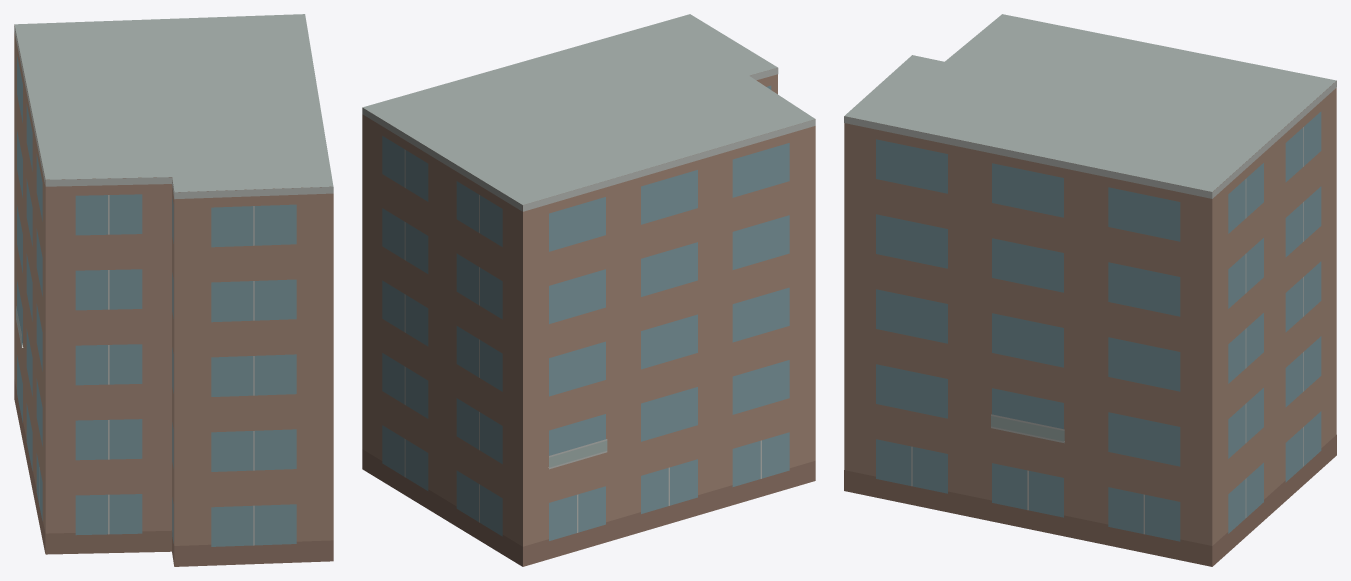
File: survey-upis-33045141.glb
3 renders of one model, left to right at view 1: azimuth 30°, elevation 25°; view 2: azimuth 150°, elevation 25°; view 3: azimuth 270°, elevation 25°, orthographic. The views are drawn at different scales.
Parts seen in each view (by area): view 1: survey-upis-33045141.tmp; view 2: survey-upis-33045141.tmp; view 3: survey-upis-33045141.tmp.
Boxes of the visible parts, bbox=[...] form: survey-upis-33045141.tmp: bbox=[14, 14, 333, 566]; survey-upis-33045141.tmp: bbox=[362, 14, 815, 566]; survey-upis-33045141.tmp: bbox=[844, 14, 1336, 566].
Size of the model in its own units: 13.45 by 13.2 by 15.73.
